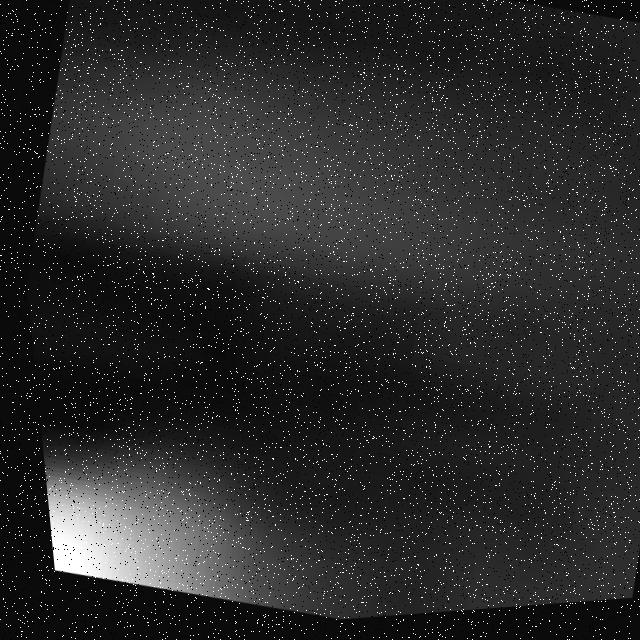person: (3, 1, 603, 402), (33, 411, 306, 627)
